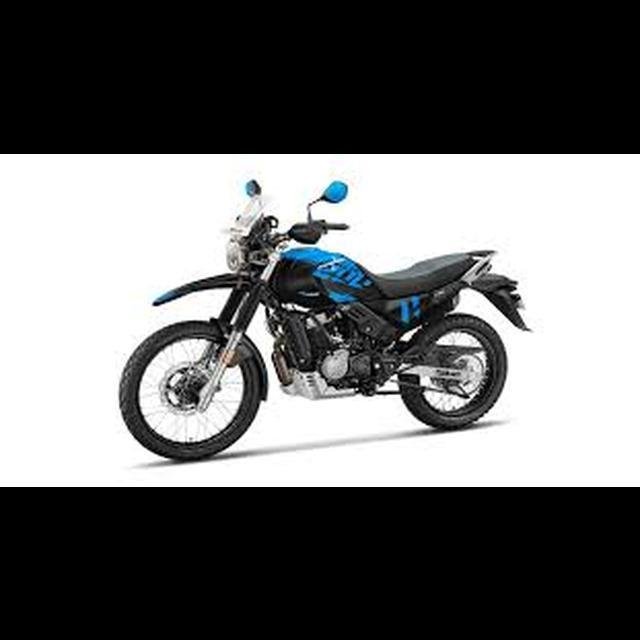motorcycle: (117, 171, 536, 466)
